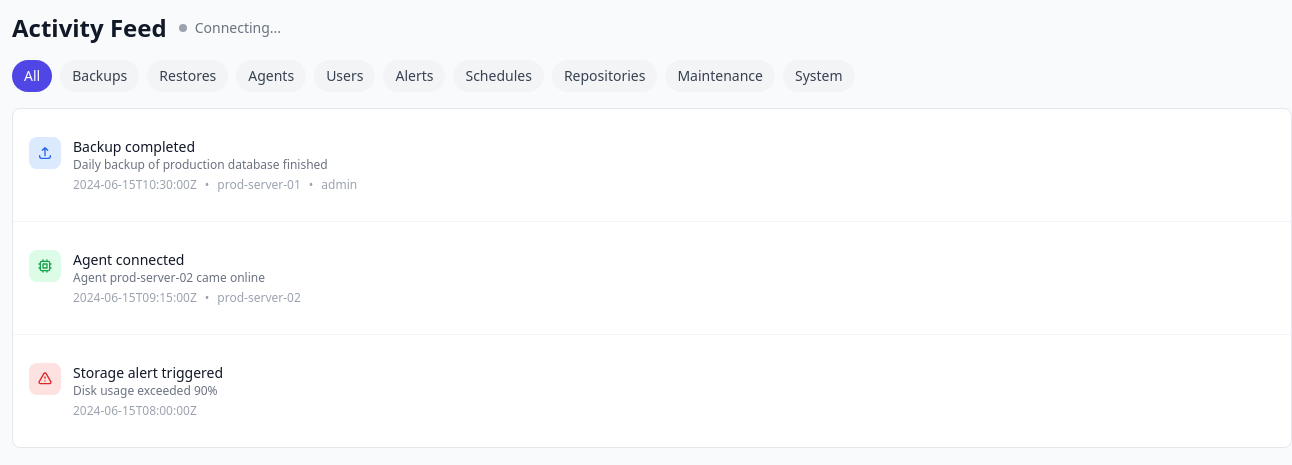
Test: Activity page › shows category-specific empty message when filter has no matches
The width and height of the screenshot is (1292, 465).
Click the button "Restores": (188, 76) [147,60,228,92]
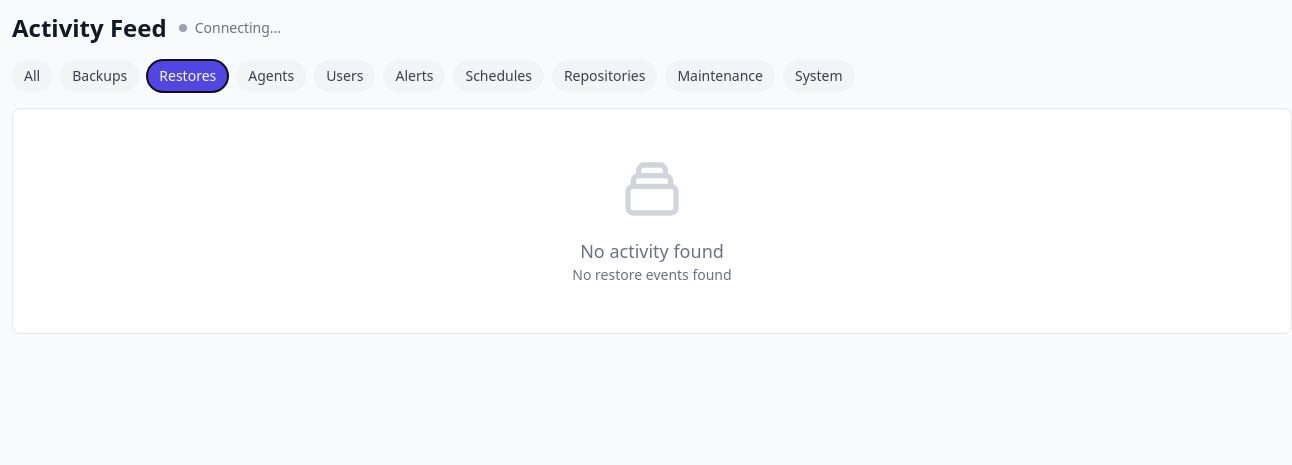
Now the text "No activity found" is shown, box [580,239,724,263]
Now the text "No restore events found" is shown, box [572,265,732,284]
